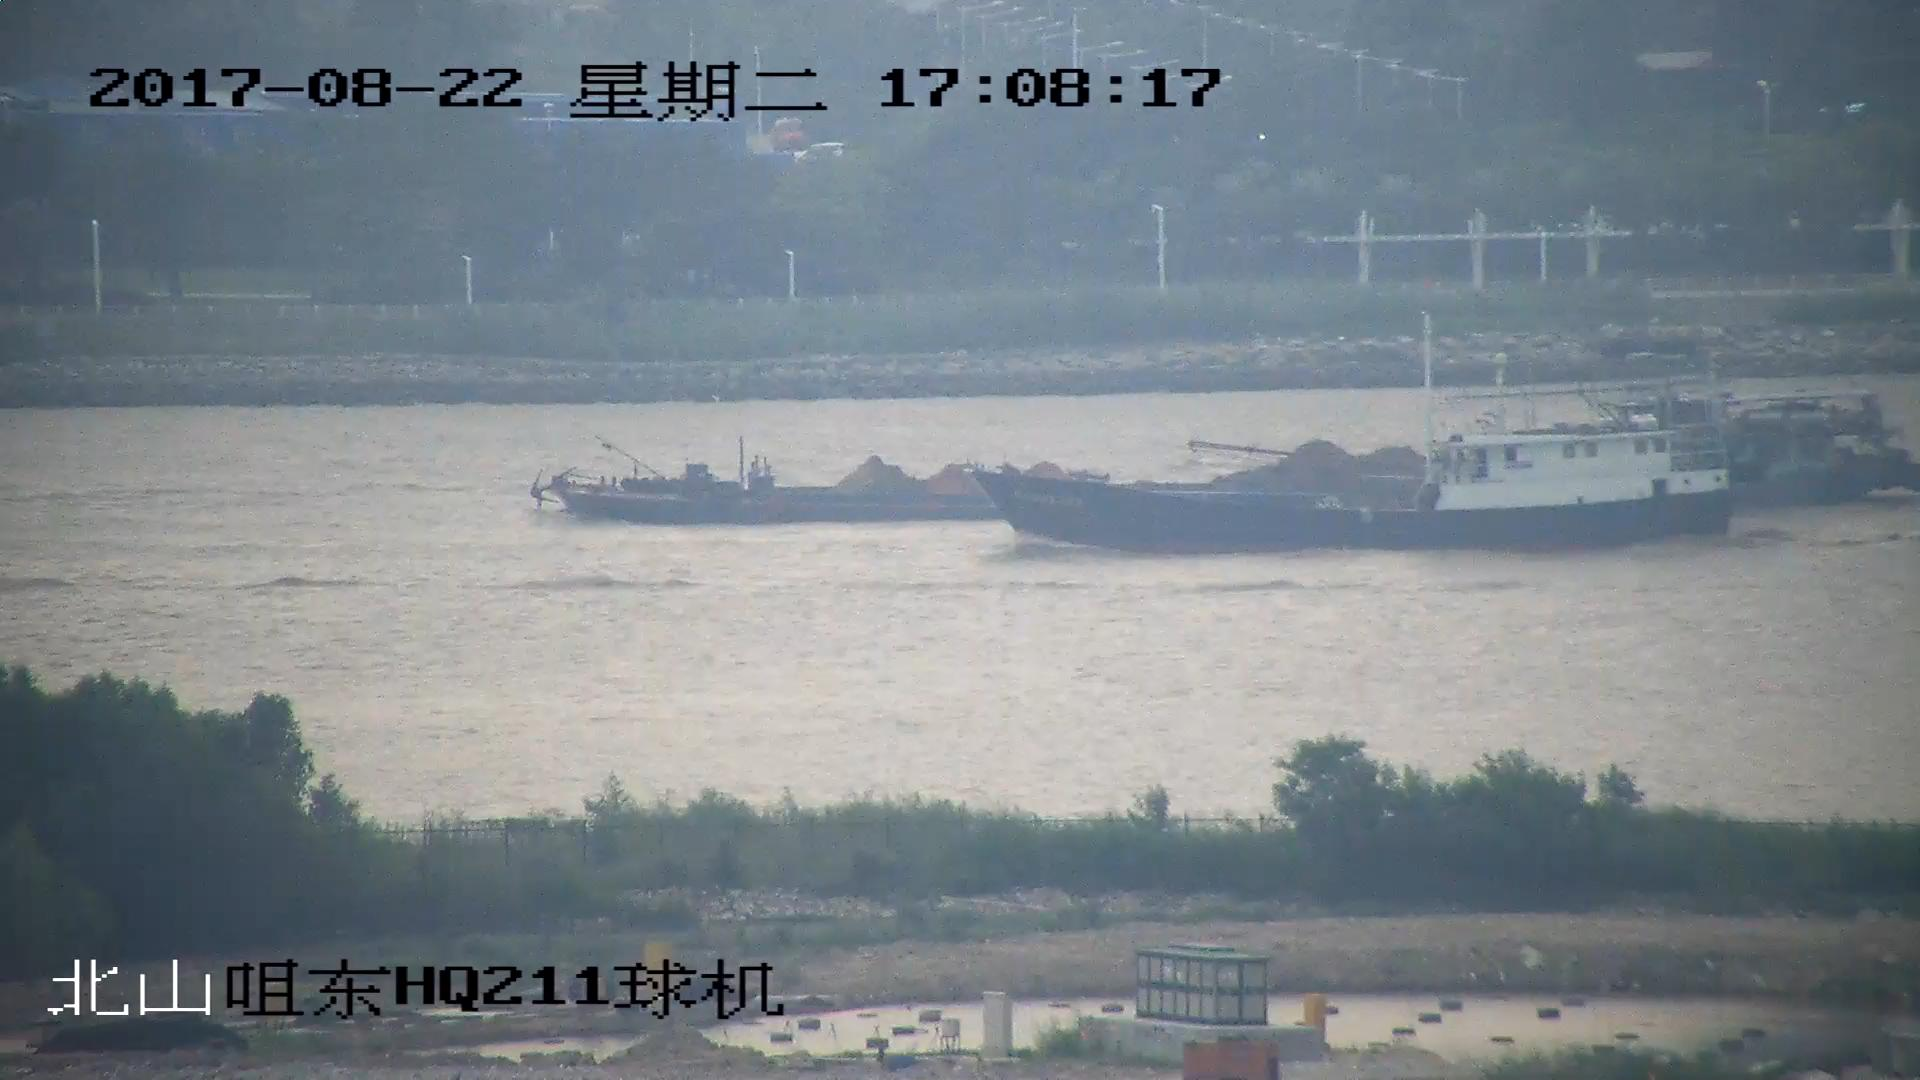fishing boat: (980, 395, 1735, 554)
ore carrier: (527, 386, 1920, 525)
